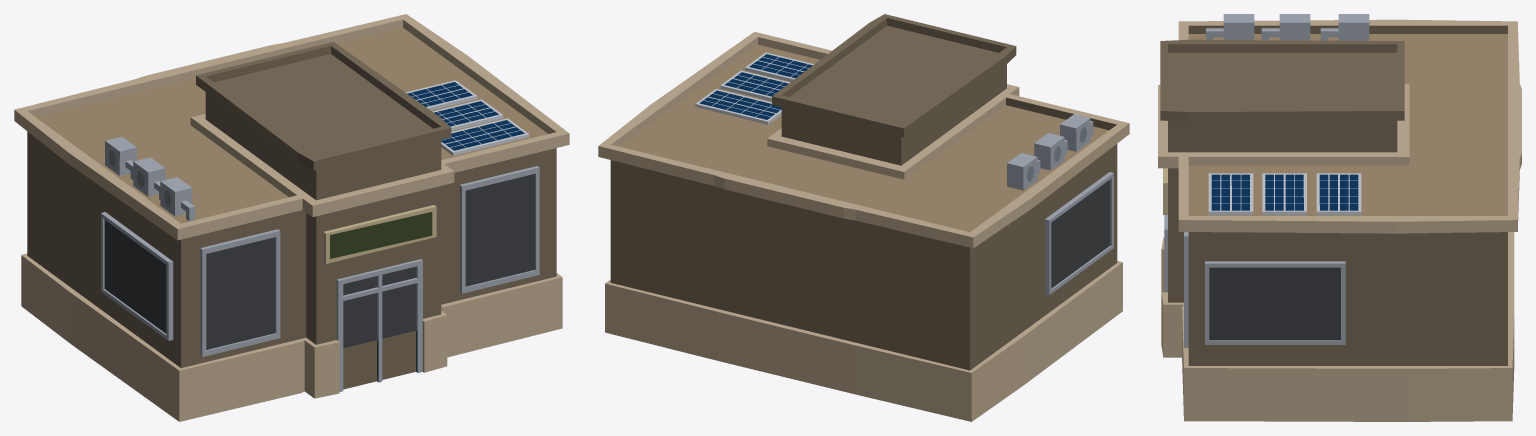
File: Building_Bank.fbx
The picture shows the model from 3 angles, left to right: view 1: azimuth 30°, elevation 25°; view 2: azimuth 150°, elevation 25°; view 3: azimuth 270°, elevation 25°; orthographic projection. The views are drawn at different scales.
Visible parts, largest first — view 1: Building_Bank; view 2: Building_Bank; view 3: Building_Bank.
Part boxes in pixels (box(x1,y1,x2,y2)): Building_Bank: box(14, 14, 569, 421); Building_Bank: box(598, 14, 1129, 421); Building_Bank: box(1158, 14, 1521, 421).
Bounding box in the file's own units: 2131 × 1220 × 1621.
